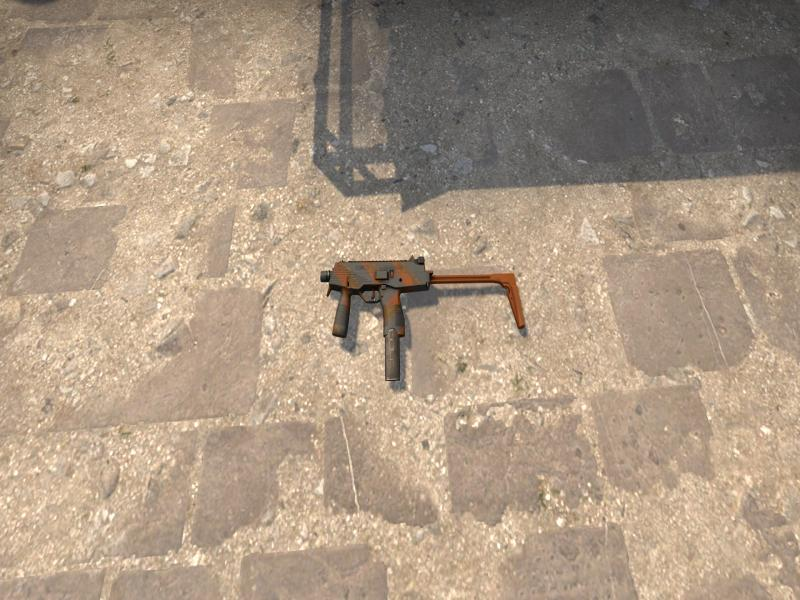MP9: (320, 256, 525, 379)
